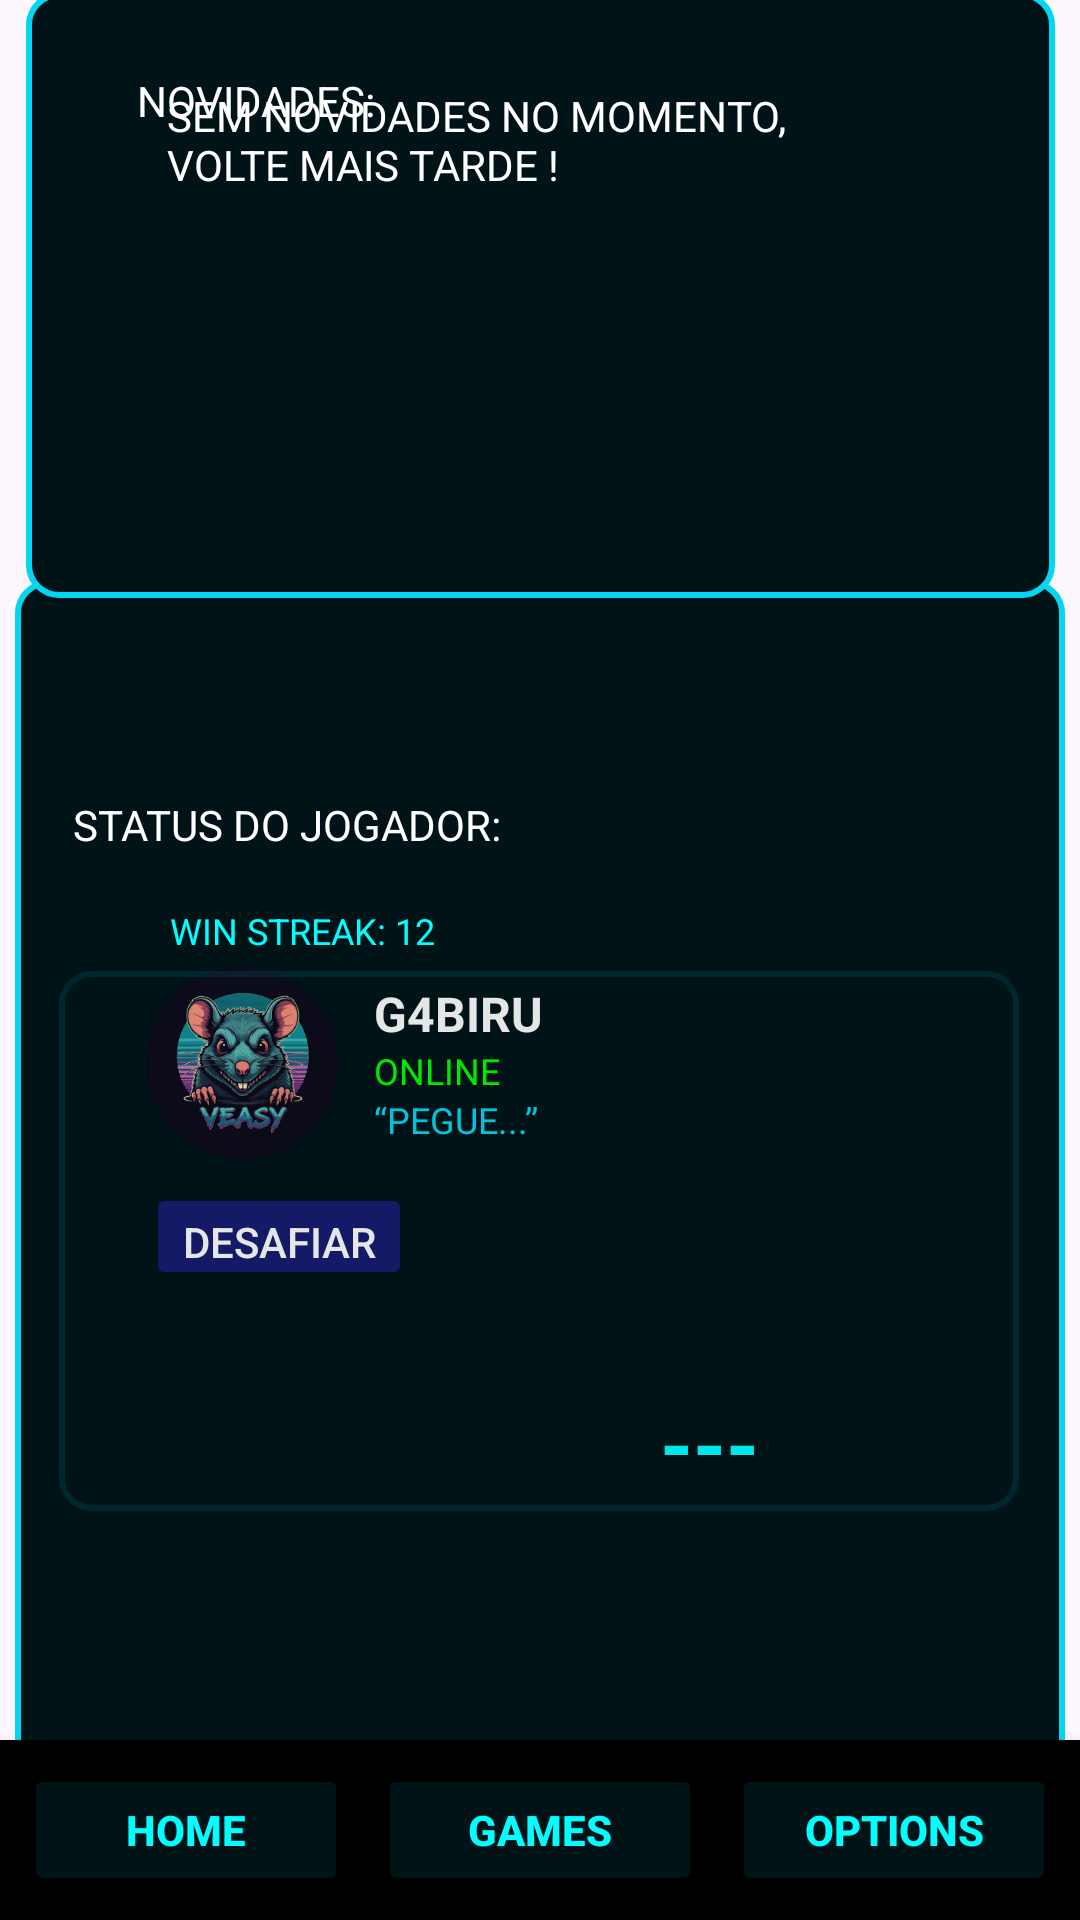

Icons on this 1080*1920 Android screen, each with the point to tap as (x,y):
ratodoveasy: (243,1052)
